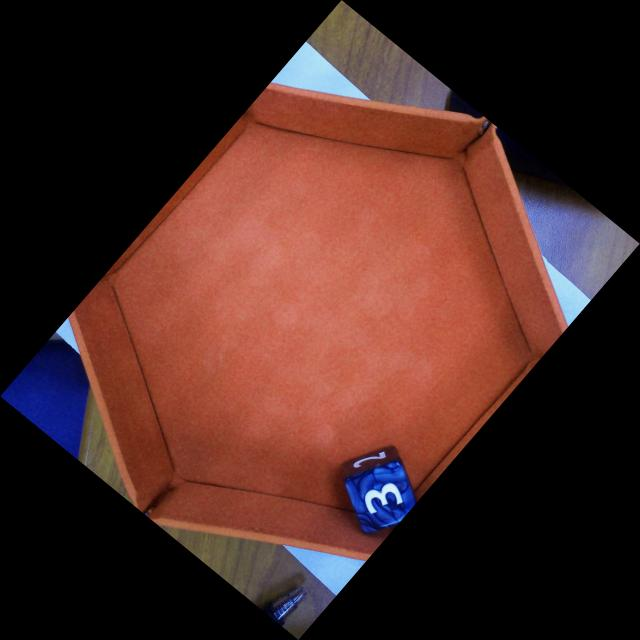dice: (343, 456, 423, 538)
